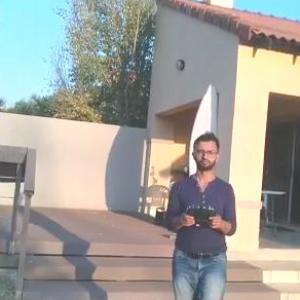follow: (160, 126, 238, 299)
